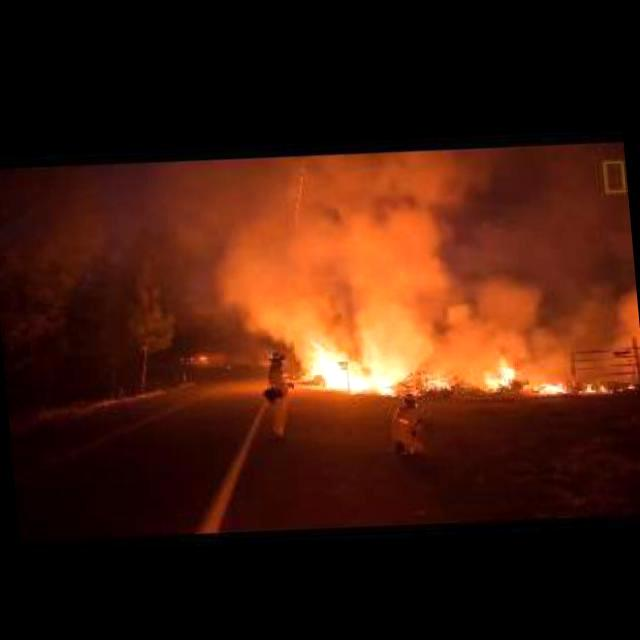fire: (216, 166, 540, 374), (306, 329, 396, 397), (474, 349, 512, 386), (582, 373, 634, 387), (536, 372, 568, 392)
